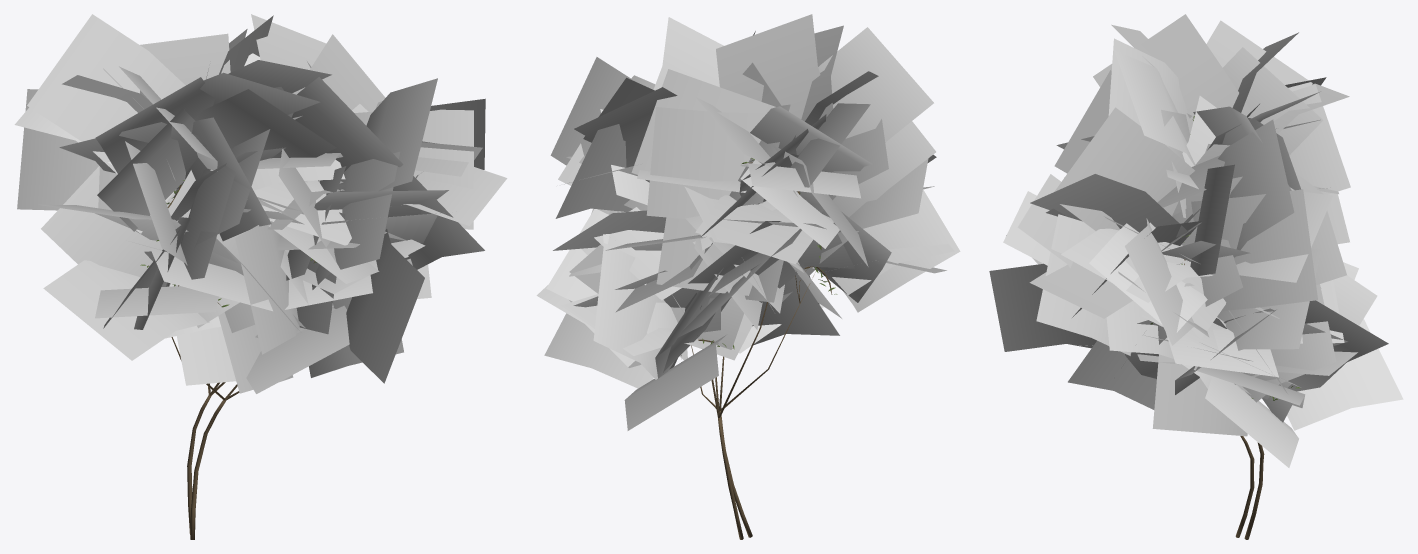
Rendered from Bruyere_Jeune_LOD1.fbx.
The picture shows the model from 3 angles, left to right: view 1: azimuth 30°, elevation 25°; view 2: azimuth 150°, elevation 25°; view 3: azimuth 270°, elevation 25°; orthographic projection. The views are drawn at different scales.
Parts seen in each view (by area): view 1: Bruyere_Jeune_LOD1; view 2: Bruyere_Jeune_LOD1; view 3: Bruyere_Jeune_LOD1.
Part boxes in pixels (bbox=[...]): Bruyere_Jeune_LOD1: bbox=[14, 14, 507, 539]; Bruyere_Jeune_LOD1: bbox=[536, 14, 960, 539]; Bruyere_Jeune_LOD1: bbox=[989, 14, 1403, 539].
Size of the model in its own units: 187 by 219 by 169.
